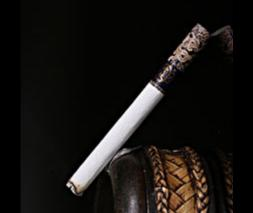Cigarette: (66, 24, 207, 196)
